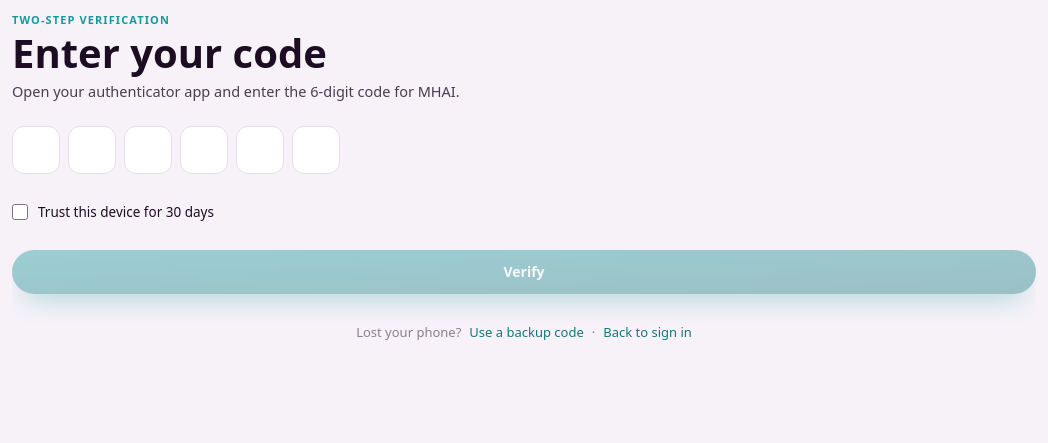
Test: CodeForm › clears the boxes after a wrong code
Click the field named "Digit 1 of 6" at (36, 150), box [12,126,60,174]
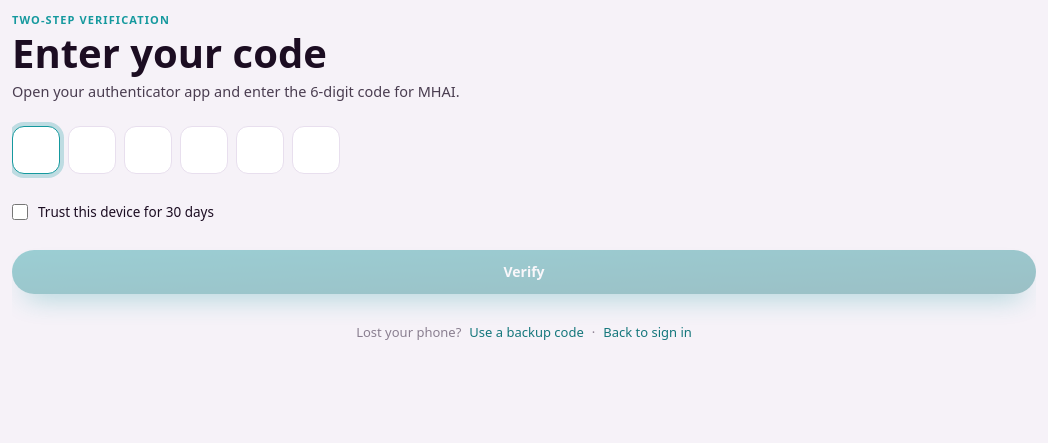
Type keys "000000"
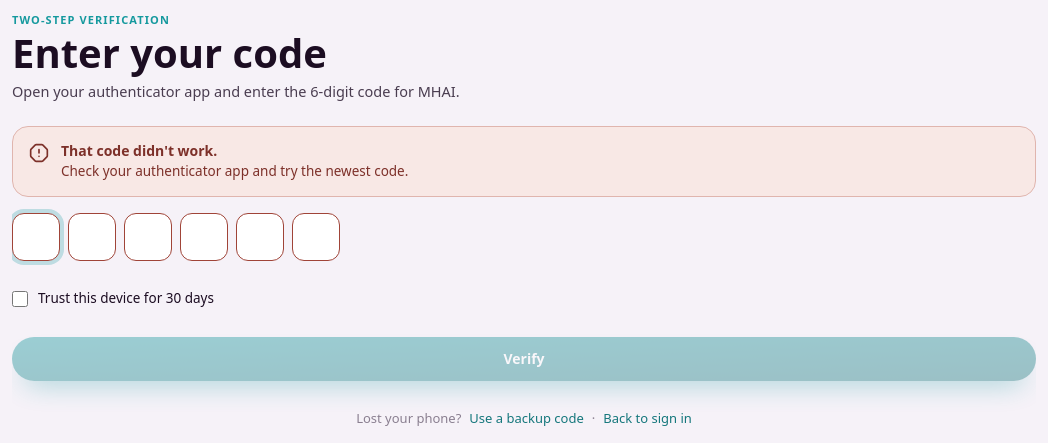
Check: the field named "Digit 1 of 6" is empty, box [12,212,60,260]
Check: the message shows "That code didn't work.", box [61,141,217,160]
